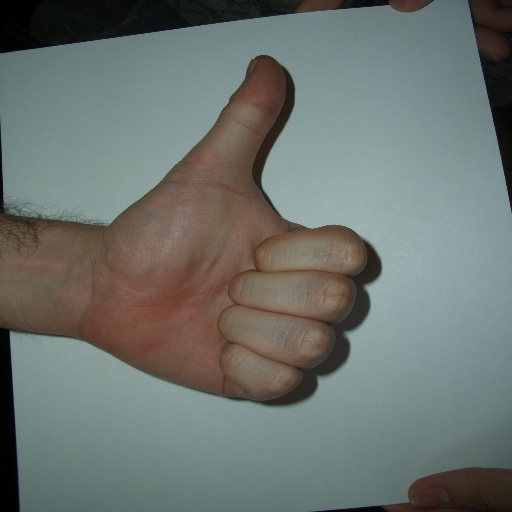hand: (77, 48, 368, 404), (291, 0, 511, 63), (383, 468, 511, 511)
